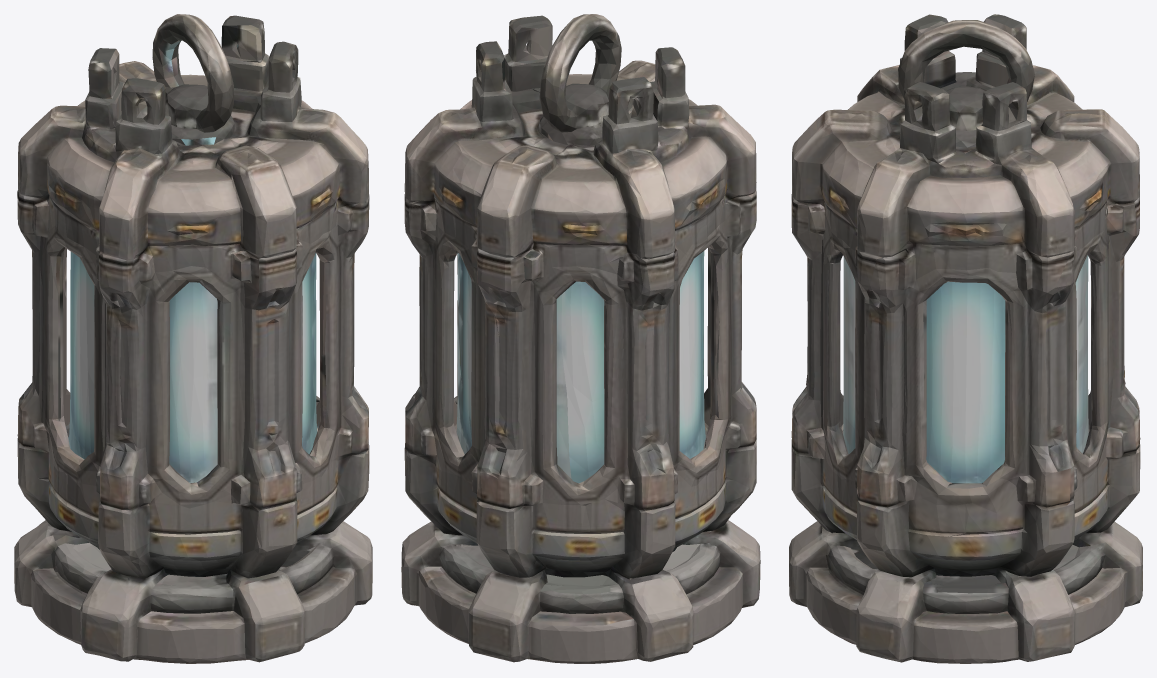
The model's file is energy.glb.
3 renders of one model, left to right at view 1: azimuth 30°, elevation 25°; view 2: azimuth 150°, elevation 25°; view 3: azimuth 270°, elevation 25°, orthographic.
Parts seen in each view (by area): view 1: tmp2l7z3203.ply; view 2: tmp2l7z3203.ply; view 3: tmp2l7z3203.ply.
Boxes of the visible parts, x1,y1,x2,y2 form: tmp2l7z3203.ply: [14, 14, 372, 663]; tmp2l7z3203.ply: [401, 14, 760, 663]; tmp2l7z3203.ply: [789, 14, 1142, 663].
Size of the model in its own units: 0.5262 by 1 by 0.5575.
Materials: 1 (1 with a texture image).
